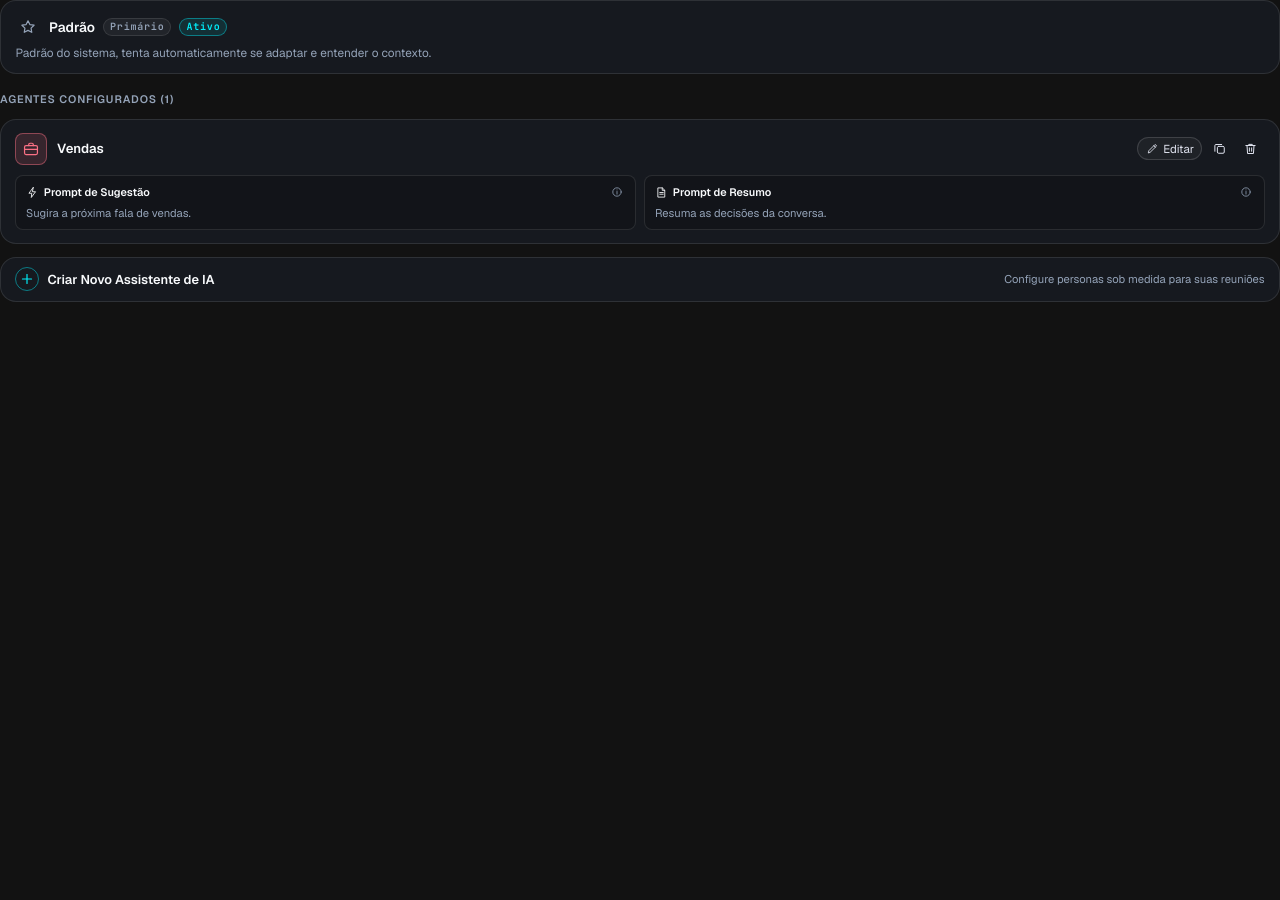
AssistantsSettings › edita um agente pelo modal
Click the button with aria-label "Editar agente Vendas": (1170, 149) top-left (1137, 137), bottom-right (1202, 160)
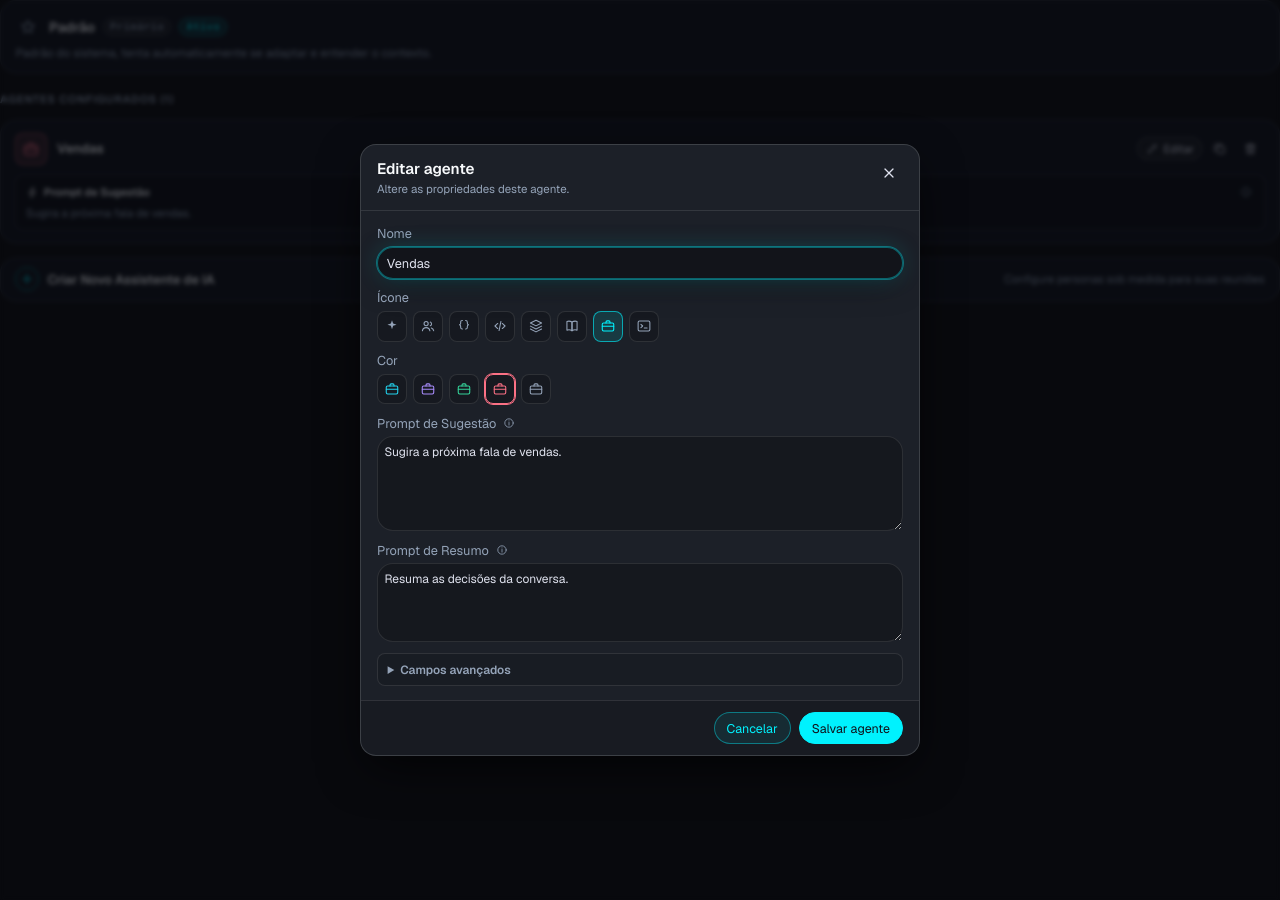
Check: the field labelled "Nome" holds "Vendas", box top-left (377, 247), bottom-right (903, 279)
Check: the button named "Ajuda: Prompt de Sugestão" is shown, box top-left (501, 415), bottom-right (517, 431)
Check: the button named "Ajuda: Prompt de Resumo" is shown, box top-left (494, 542), bottom-right (510, 558)
Click the heading "Campos avançados": (455, 669) top-left (400, 662), bottom-right (511, 676)
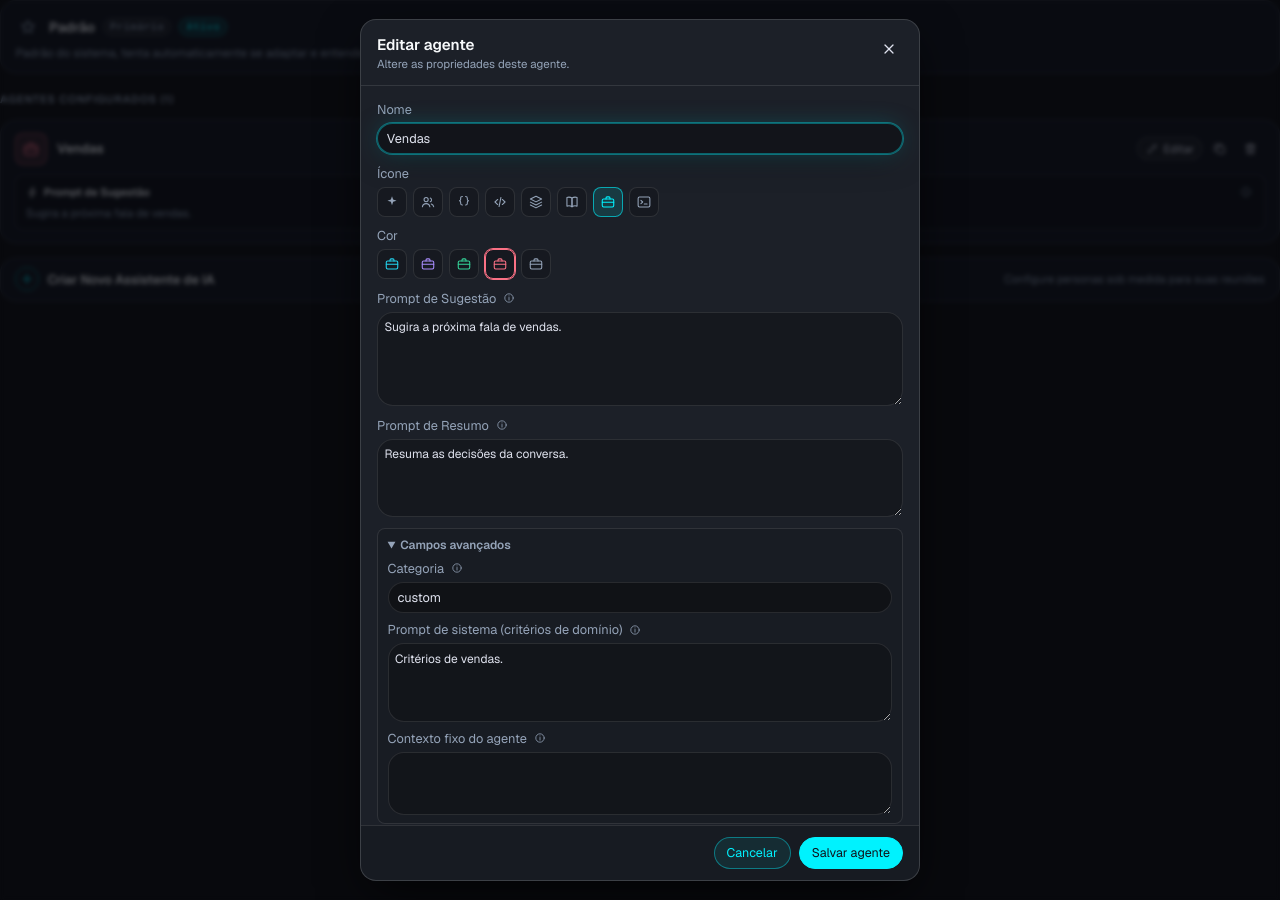
Check: the button named "Ajuda: Categoria" is shown, box top-left (449, 560), bottom-right (465, 576)
Check: the button named "Ajuda: Prompt de sistema (critérios de domínio)" is shown, box top-left (627, 622), bottom-right (643, 638)
Check: the button named "Ajuda: Contexto fixo do agente" is shown, box top-left (532, 730), bottom-right (548, 746)
Replace the text in the field labelled "Nome" with "Vendas B2B": (640, 138) top-left (377, 122), bottom-right (903, 154)
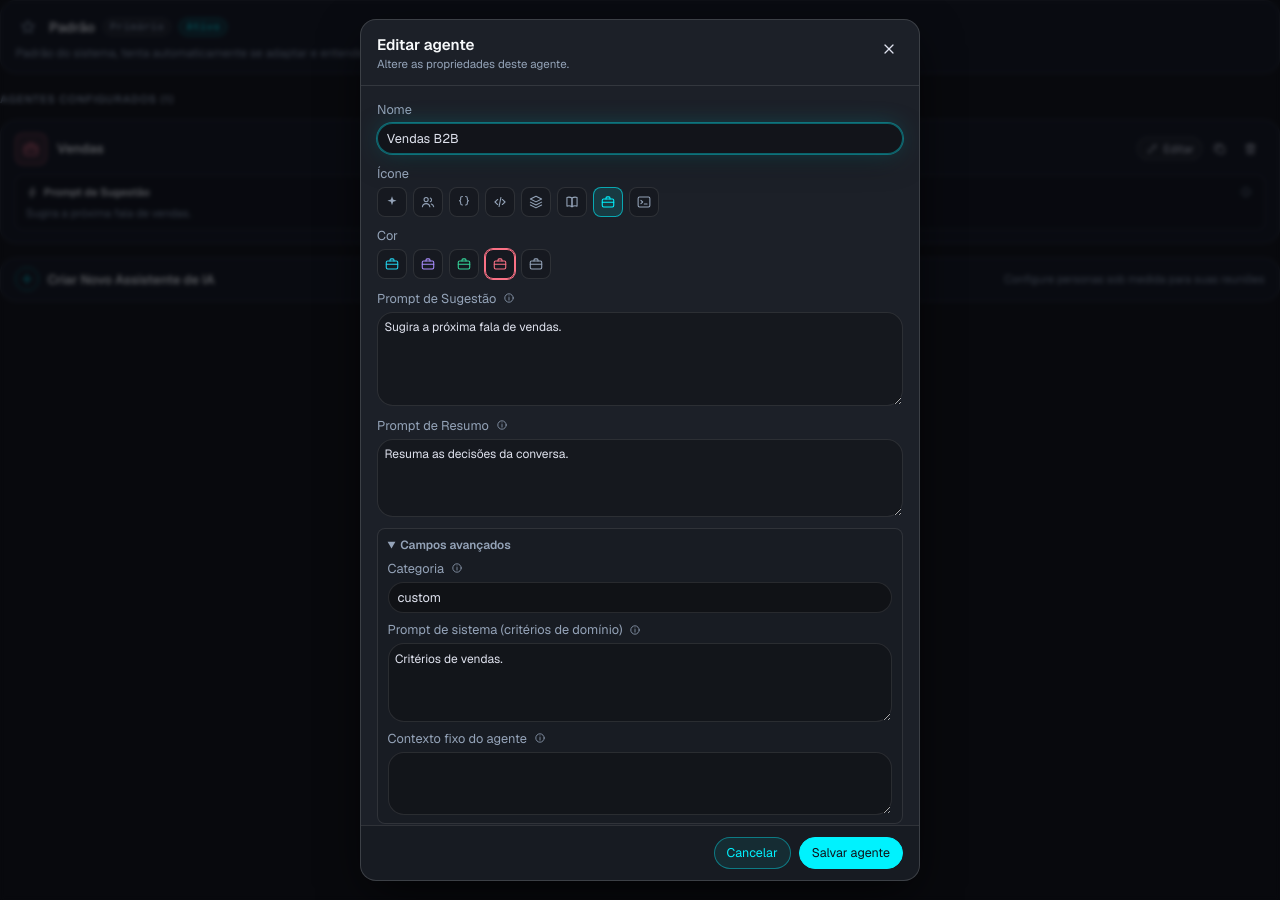
Click the button "Salvar agente": (851, 853) top-left (799, 837), bottom-right (903, 869)
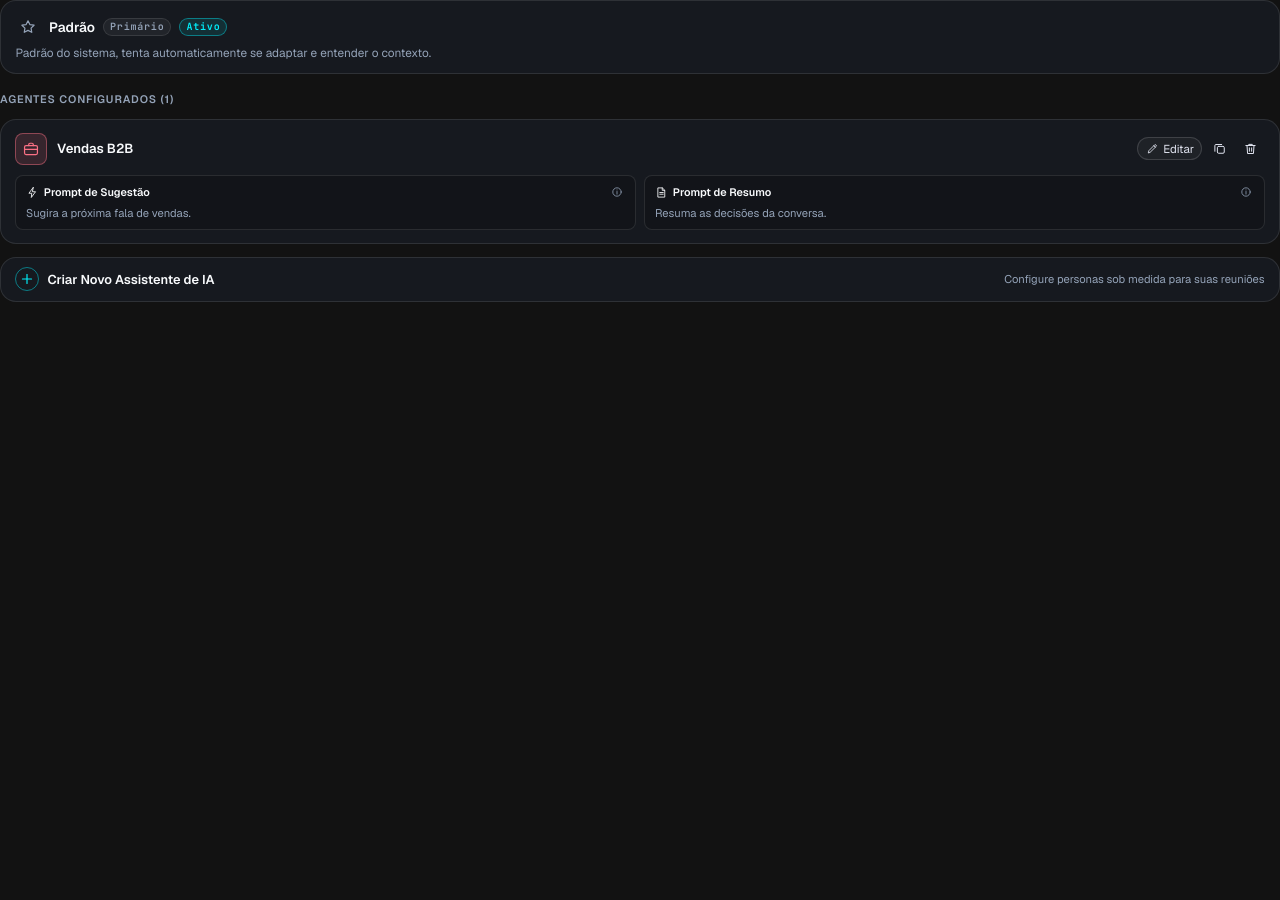
Check: the heading "Vendas B2B" is shown, box top-left (57, 140), bottom-right (134, 157)
Check: the dialog is gone
